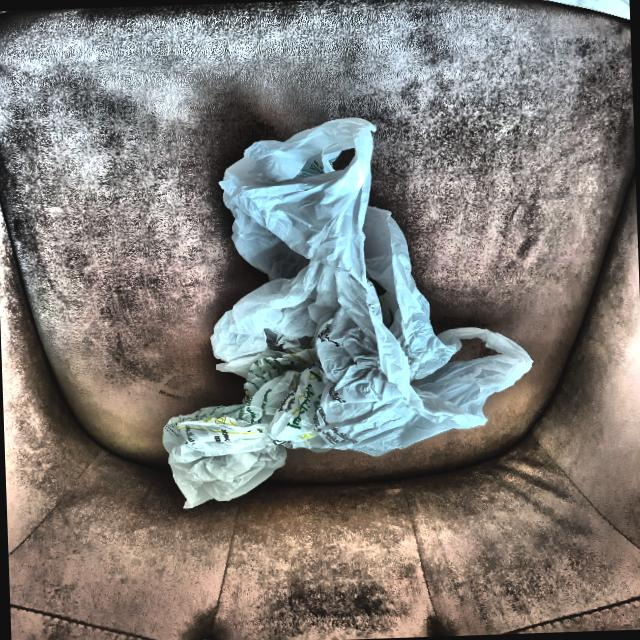plastic bag: (148, 120, 521, 517)
